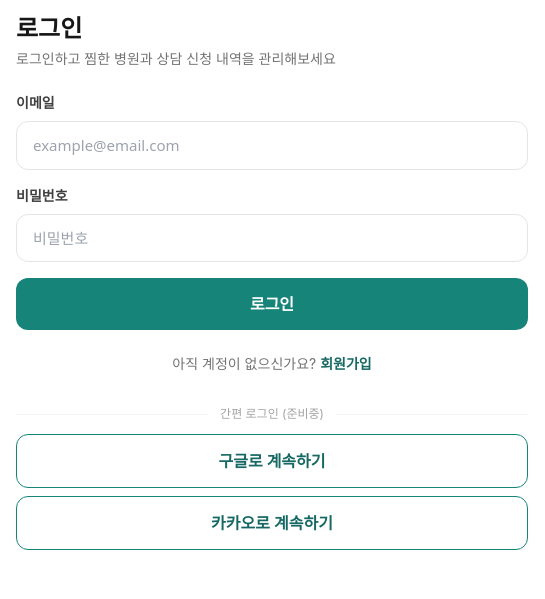
로그인 화면 — 서버 오류 › 필드가 없는 오류(INVALID_CREDENTIALS)는 폼 전체 오류로 서버 문구를 그대로 보여준다
Type "seed-1@molarmolar.example" into the field labelled "이메일". click: point(272, 145)
box: [16,121,528,170]
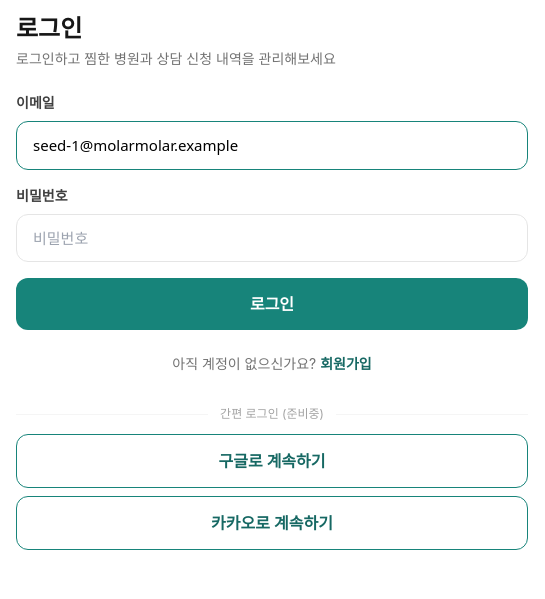
Type "wrong-password" into the password field labelled "비밀번호". click: point(272, 238)
box: [16,214,528,262]
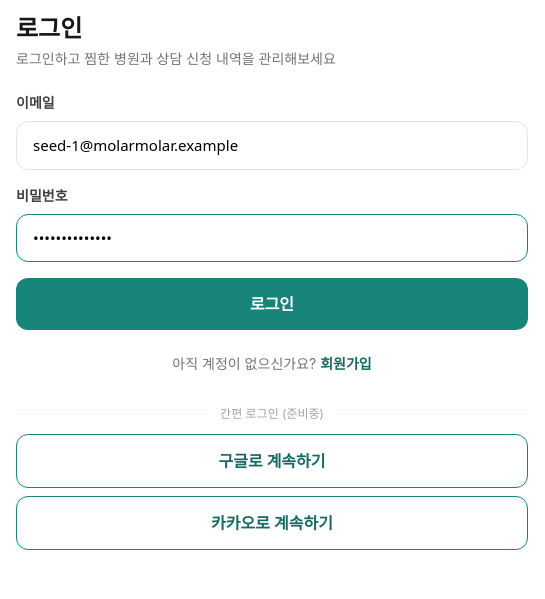
Click the button "로그인". click: point(272, 304)
box: [16,278,528,330]
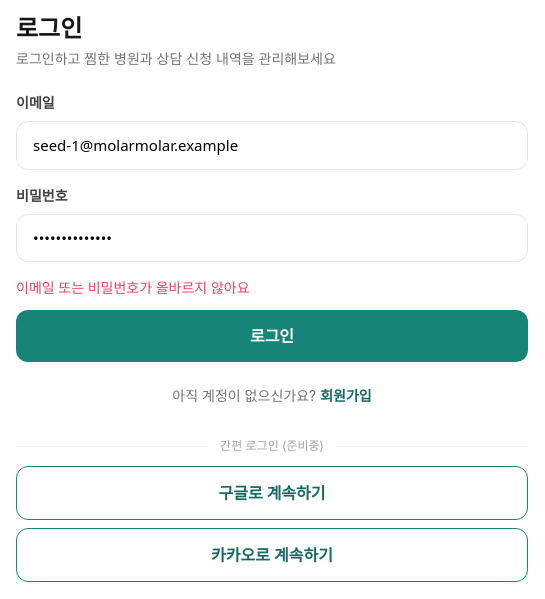
expect the message reads "이메일 또는 비밀번호가 올바르지 않아요": met, box [16,278,250,297]
